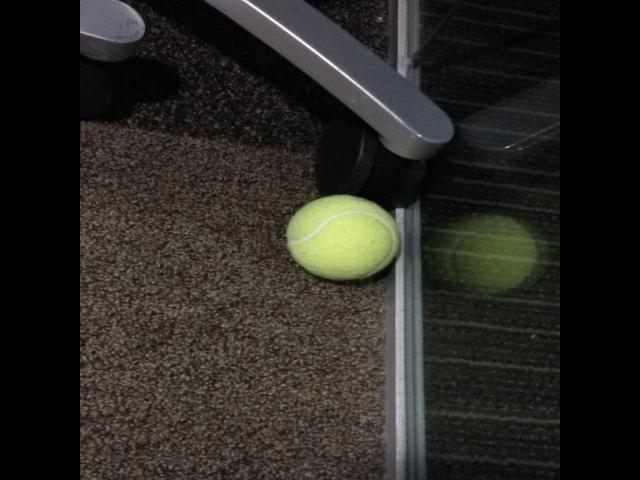tennis-ball: (288, 194, 402, 280)
